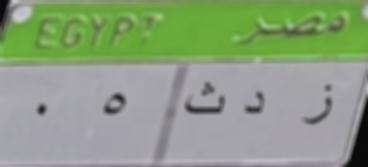0: (31, 94, 50, 126)
5: (99, 86, 128, 123)
daal: (240, 86, 269, 122)
thaa: (181, 77, 227, 126)
zay: (294, 78, 338, 136)
